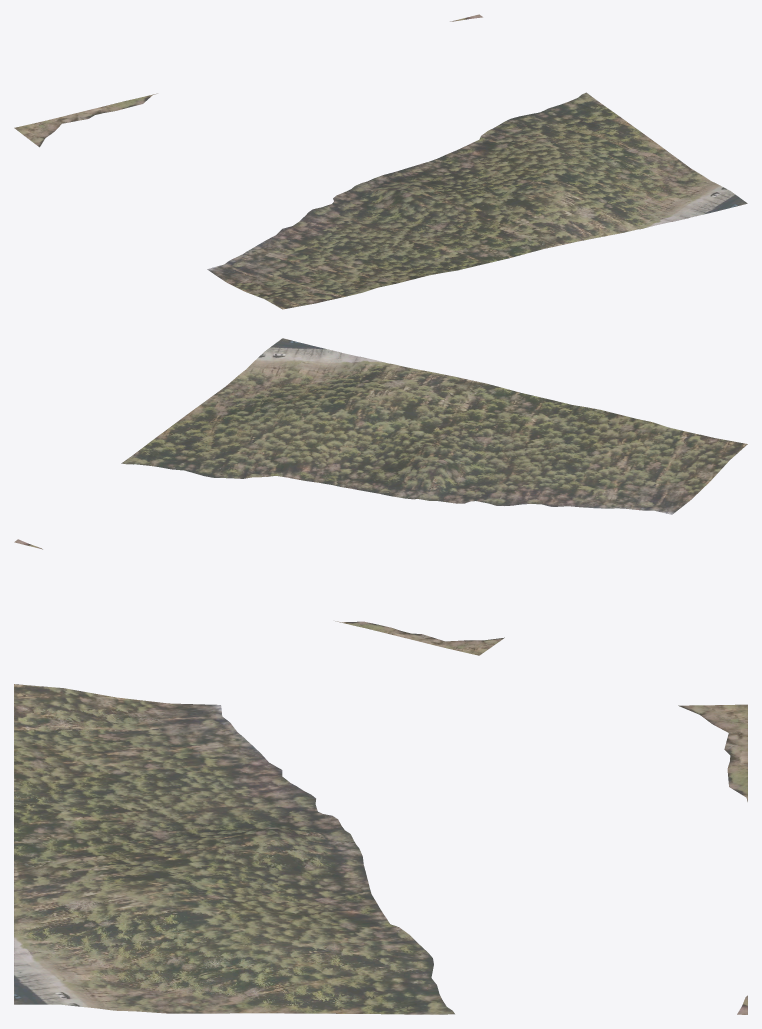
File: CM_Terrain_24491687_6815288.fbx
The picture shows the model from 3 angles, top to bottom: view 1: azimuth 30°, elevation 25°; view 2: azimuth 150°, elevation 25°; view 3: azimuth 270°, elevation 25°; orthographic projection. The views are drawn at different scales.
Visible parts, largest first — view 1: CM_Terrain_24491687_6815288_LOD0; view 2: CM_Terrain_24491687_6815288_LOD0; view 3: CM_Terrain_24491687_6815288_LOD0.
Boxes of the visible parts, box(x1,y1,x2,y2) form: CM_Terrain_24491687_6815288_LOD0: box(14, 14, 747, 309); CM_Terrain_24491687_6815288_LOD0: box(14, 338, 747, 655); CM_Terrain_24491687_6815288_LOD0: box(14, 684, 747, 1014).
Size of what is drawn, in the model's own units: 205 by 7.37 by 205.
